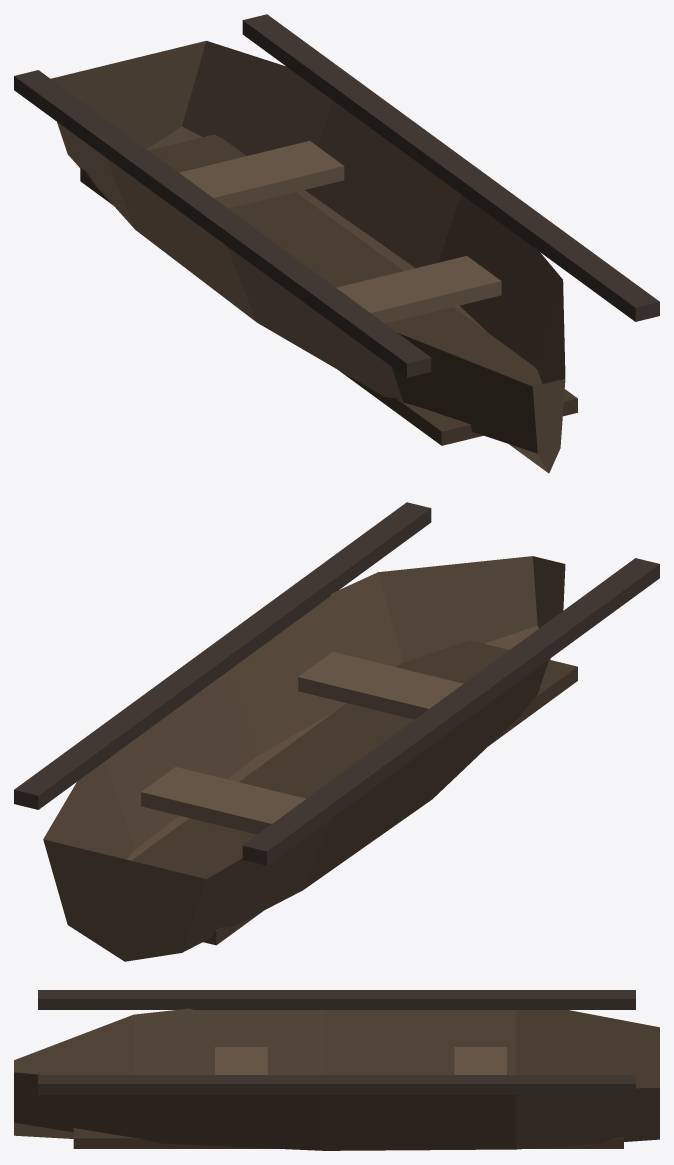
The model's file is rowboat.glb.
The picture shows the model from 3 angles, top to bottom: view 1: azimuth 30°, elevation 25°; view 2: azimuth 150°, elevation 25°; view 3: azimuth 270°, elevation 25°; orthographic projection. The views are drawn at different scales.
Parts seen in each view (by area): view 1: rowboat; view 2: rowboat; view 3: rowboat.
Boxes of the visible parts, x1,y1,x2,y2 form: rowboat: [14, 14, 659, 473]; rowboat: [14, 502, 659, 961]; rowboat: [14, 990, 659, 1150].
Bounding box in the file's own units: 0.93 × 0.455 × 2.7.
1 material, 1 textured.
